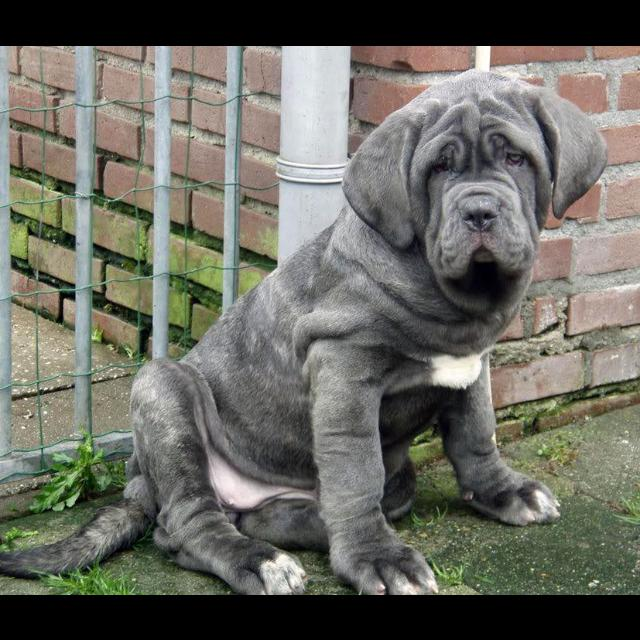mastino_napoletano: (2, 68, 608, 595)
